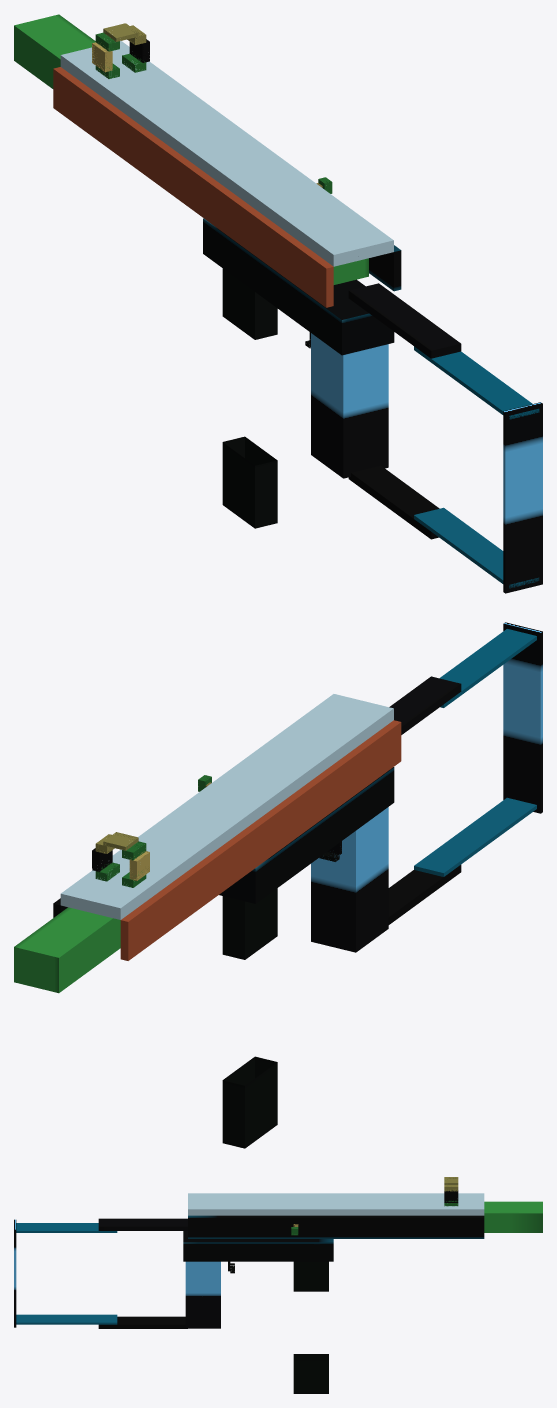
Rendered from smg1R.obj.
The picture shows the model from 3 angles, top to bottom: view 1: azimuth 30°, elevation 25°; view 2: azimuth 150°, elevation 25°; view 3: azimuth 270°, elevation 25°; orthographic projection. The views are drawn at different scales.
Visible parts, largest first — view 1: cube; view 2: cube; view 3: cube.
Boxes of the visible parts, <box> form: cube: <box>14,14,542,593</box>; cube: <box>14,622,542,1148</box>; cube: <box>14,1177,542,1393</box>.
Size of the model in its own units: 3.38 by 12.38 by 28.12.
